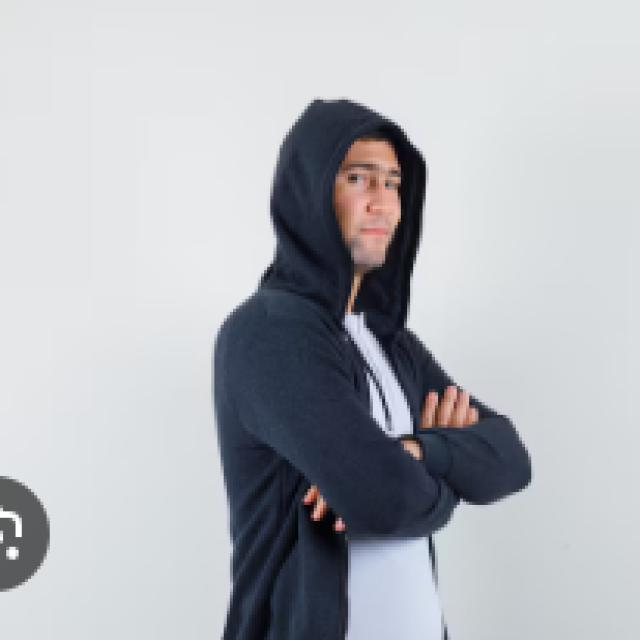4_capucha: (260, 96, 428, 333)
